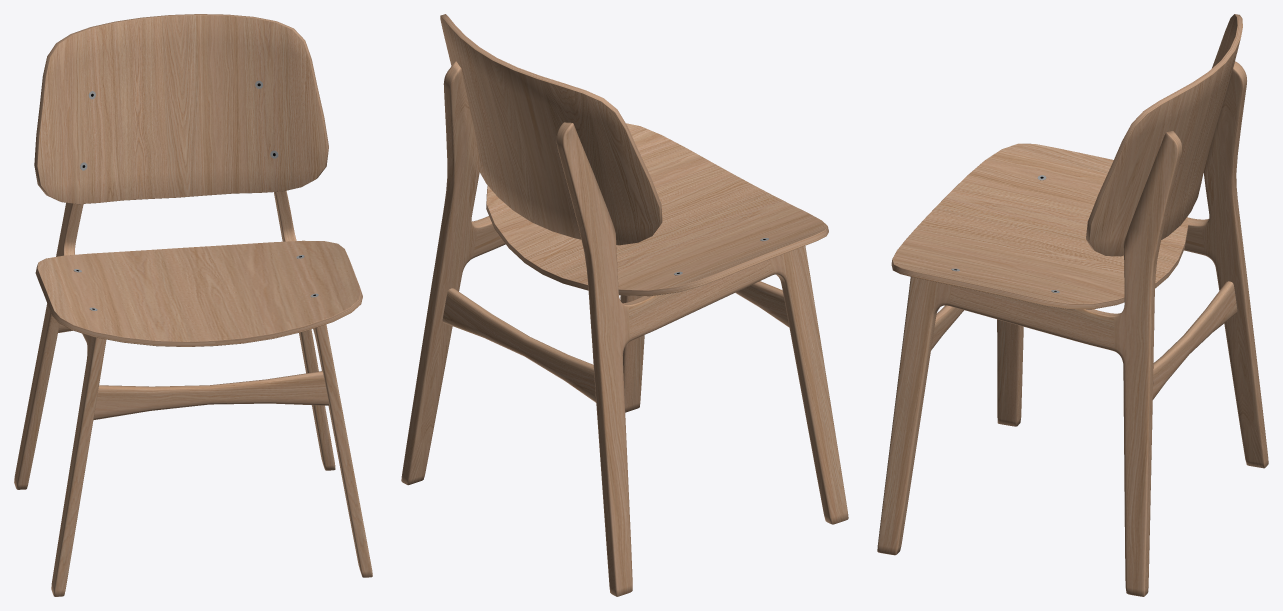
File: chair_low_poly.glb
3 renders of one model, left to right at view 1: azimuth 30°, elevation 25°; view 2: azimuth 150°, elevation 25°; view 3: azimuth 270°, elevation 25°, orthographic. The views are drawn at different scales.
Visible parts, largest first — view 1: Plane.001, Plane, Cube, Cube.001; view 2: Cube, Plane, Plane.001, Cube.002, Cube.001; view 3: Cube, Plane, Plane.001, Cube.002, Cube.001.
Boxes of the visible parts, bbox=[...] form: Plane.001: bbox=[34, 14, 328, 204]; Plane: bbox=[35, 240, 362, 346]; Cube: bbox=[14, 190, 372, 596]; Cube.001: bbox=[93, 371, 329, 420]; Cube: bbox=[401, 61, 848, 596]; Plane: bbox=[486, 123, 828, 296]; Plane.001: bbox=[440, 14, 662, 245]; Cube.002: bbox=[442, 288, 596, 402]; Cube.001: bbox=[735, 281, 789, 327]; Cube: bbox=[877, 61, 1268, 596]; Plane: bbox=[891, 143, 1188, 309]; Plane.001: bbox=[1086, 14, 1242, 256]; Cube.002: bbox=[1152, 281, 1237, 399]; Cube.001: bbox=[931, 305, 963, 350].
Size of the model in its own units: 0.6377 by 0.7929 by 0.5948.
3 materials, 1 textured.
